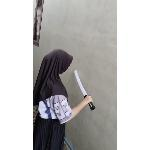Pedang: (72, 66, 100, 116)
